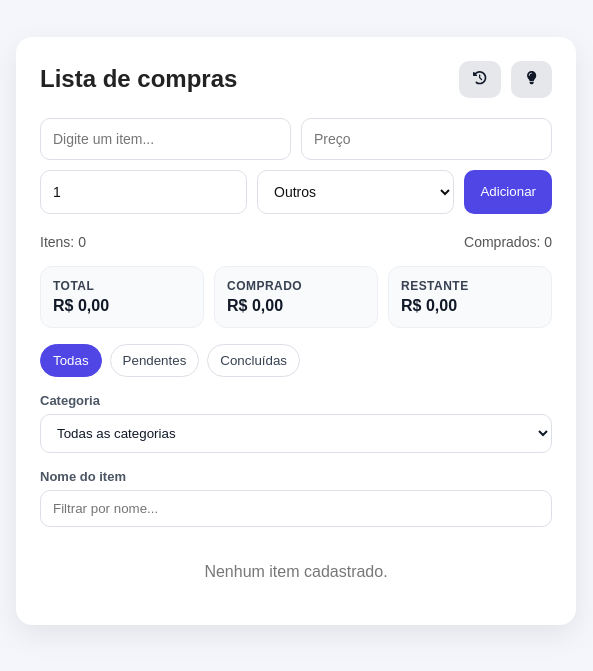
Shopping app › adds an item without price and keeps total at zero
Type "Banana" into the field with placeholder "Digite um item..." at (166, 139), box [40,118,291,160]
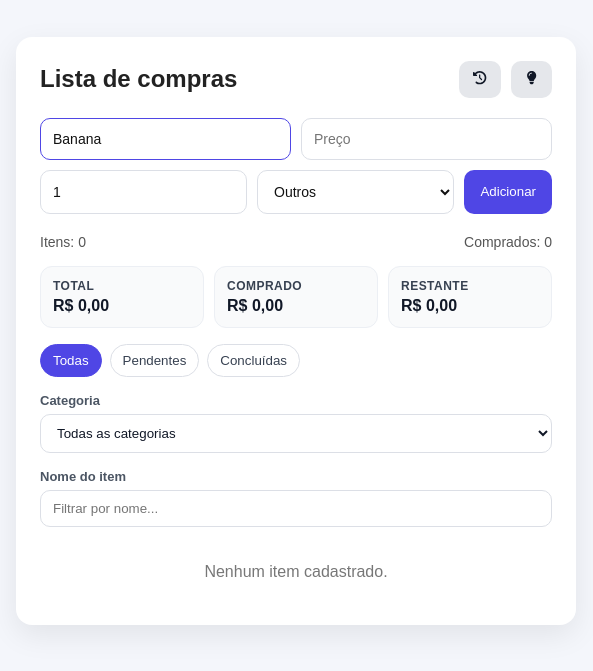
Replace the text in the number field with placeholder "Qtd." with "3" at (144, 192), box [40,170,247,214]
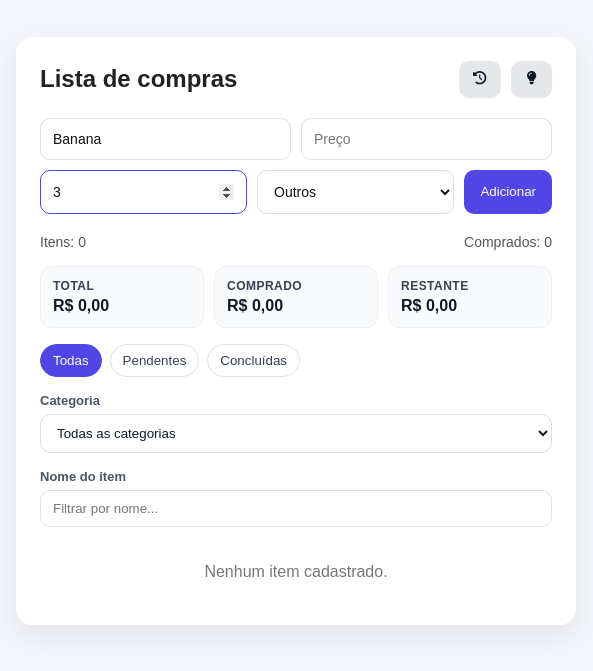
Select "Hortifruti" in the dropdown named "Categoria do item" at (356, 192), box [257,170,454,214]
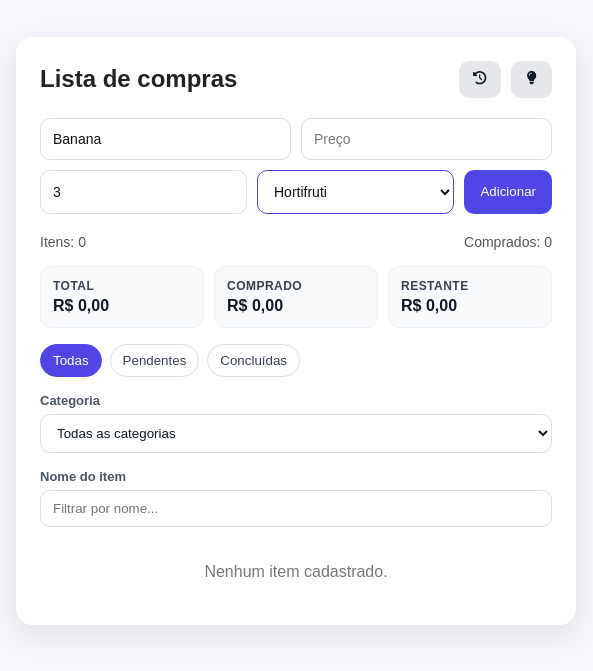
Click the button "Adicionar" at (508, 192), box [464,170,552,214]
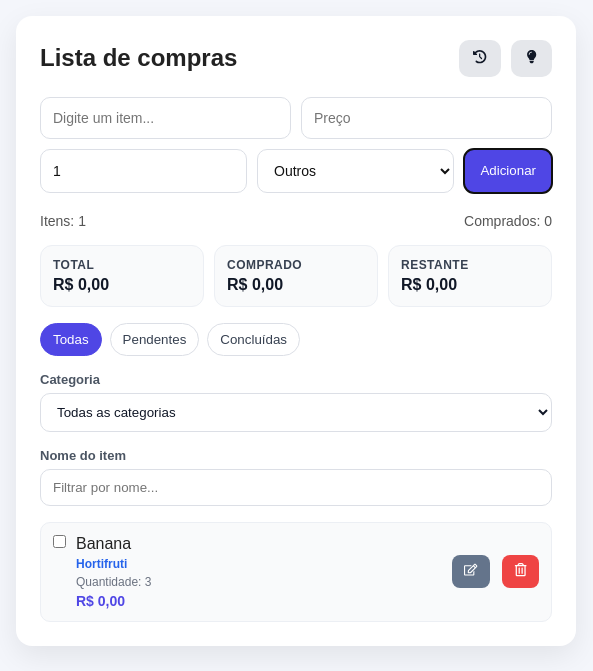
Now the text "Banana" is shown, box [76,535,131,552]
Now the text "Hortifruti" is shown, box [76,557,127,571]
Now the text "Quantidade: 3" is shown, box [76,575,151,589]
